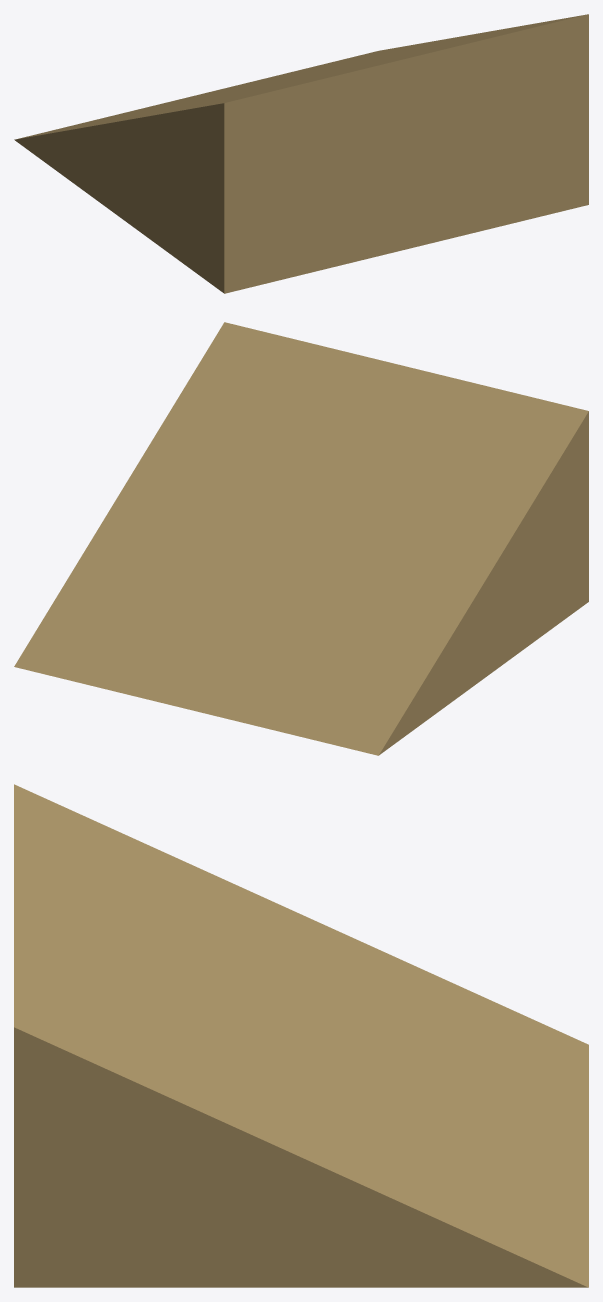
The model's file is terrain-sand-slope.lod0.glb.
The picture shows the model from 3 angles, top to bottom: view 1: azimuth 30°, elevation 25°; view 2: azimuth 150°, elevation 25°; view 3: azimuth 270°, elevation 25°; orthographic projection. The views are drawn at different scales.
Parts seen in each view (by area): view 1: terrain-sand-slope__body; view 2: terrain-sand-slope__body; view 3: terrain-sand-slope__body.
Part boxes in pixels (x1=…): terrain-sand-slope__body: x1=14, y1=14, x2=588, y2=293; terrain-sand-slope__body: x1=14, y1=322, x2=588, y2=755; terrain-sand-slope__body: x1=14, y1=784, x2=588, y2=1287.
Size of the model in its own units: 2 by 1 by 2.
